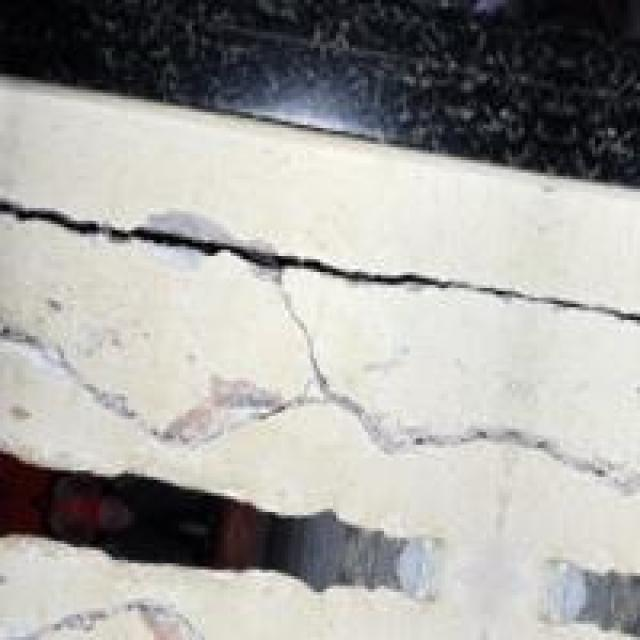Crack: (10, 138, 621, 618)
